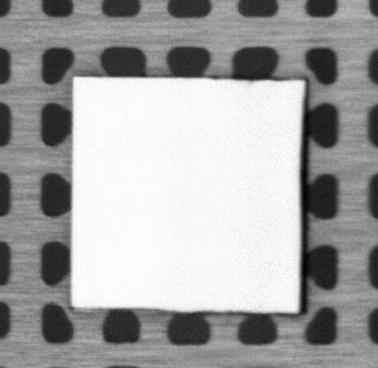DIE_BROKEN: (297, 80, 308, 318)
